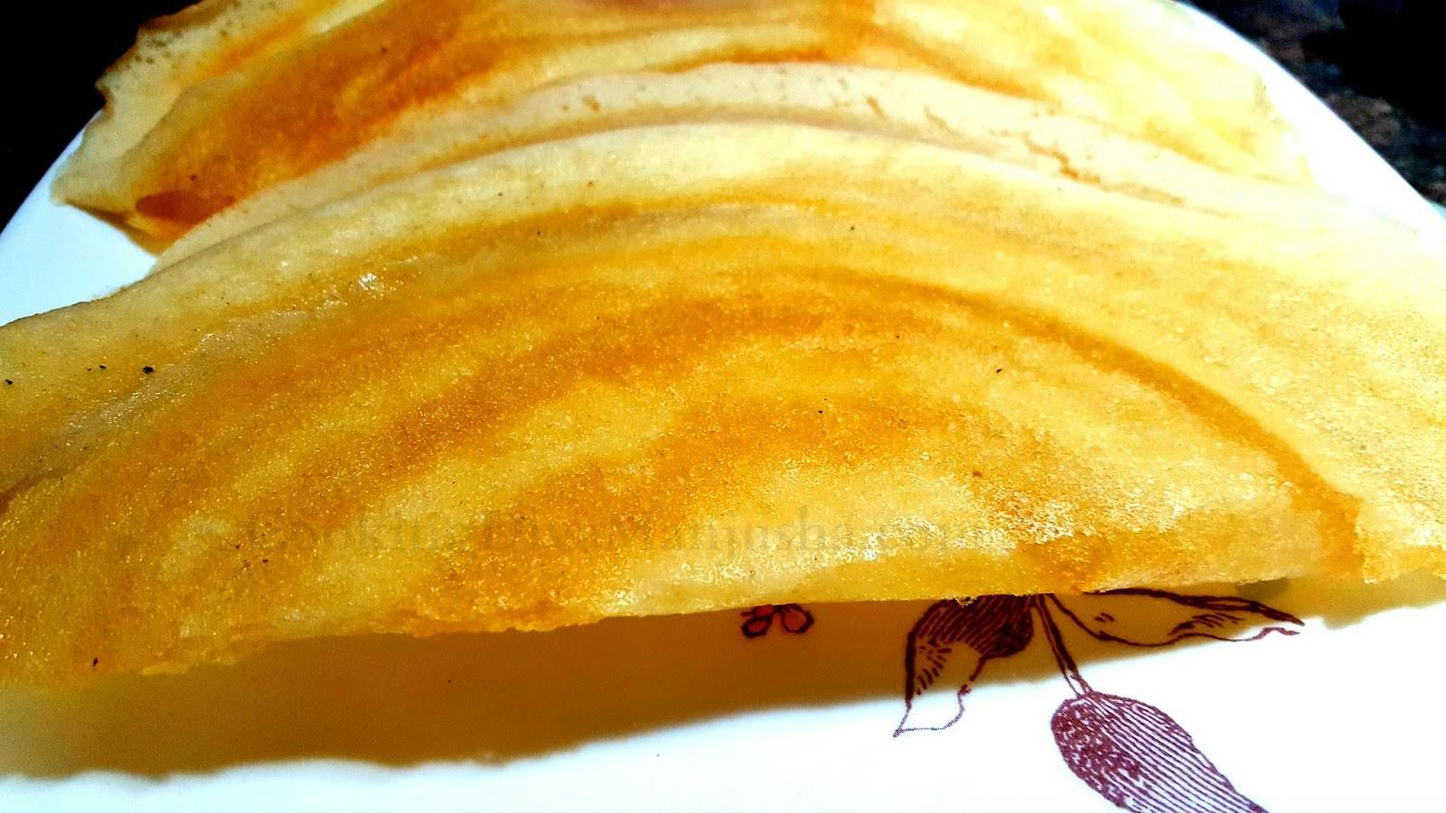Dosa: (0, 63, 1446, 689), (53, 0, 1314, 249)
